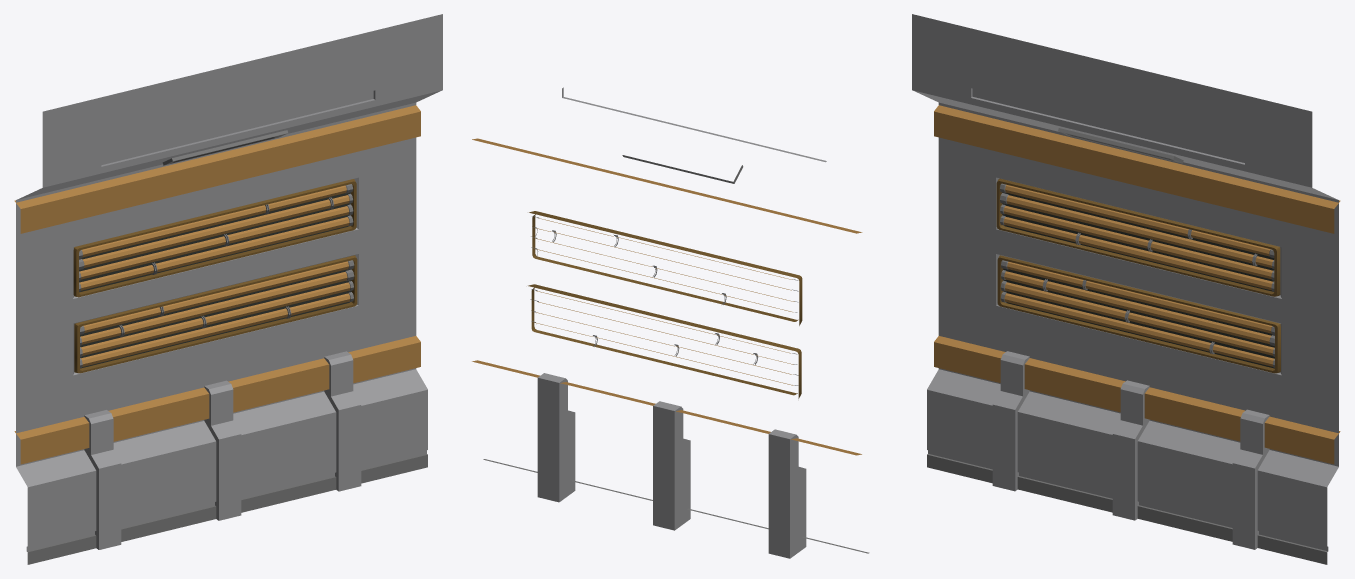
Rendered from quaternius-modular-sci-fi-wall-5.glb.
3 views of the same model, side by side, from view 1: azimuth 30°, elevation 25°; view 2: azimuth 150°, elevation 25°; view 3: azimuth 330°, elevation 25° (orthographic). The views are drawn at different scales.
Visible parts, largest first — view 1: Wall_5; view 2: Wall_5; view 3: Wall_5.
Part boxes in pixels (<box>): Wall_5: <box>14,14,442,564</box>; Wall_5: <box>472,87,869,558</box>; Wall_5: <box>912,14,1340,564</box>.
Bounding box in the file's own units: 4 × 4.43 × 0.5279.
2 materials, 2 textured.
